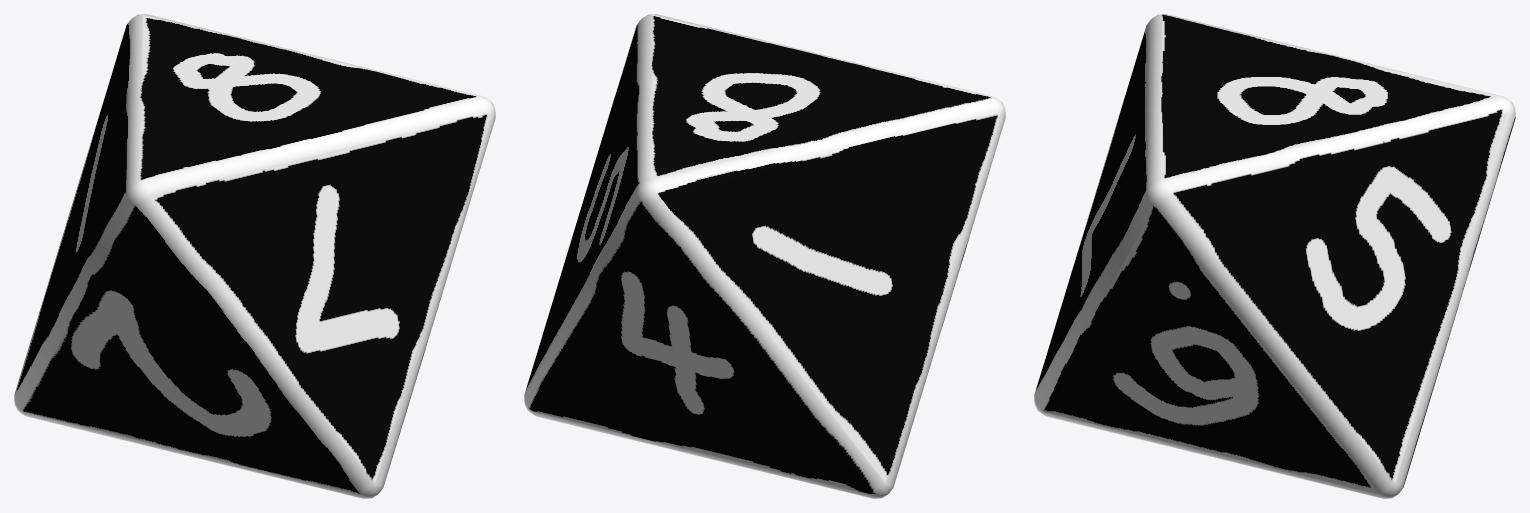
The picture shows the model from 3 angles, left to right: view 1: azimuth 30°, elevation 25°; view 2: azimuth 150°, elevation 25°; view 3: azimuth 270°, elevation 25°; orthographic projection.
Parts seen in each view (by area): view 1: d8-bev-rigid; view 2: d8-bev-rigid; view 3: d8-bev-rigid.
Part boxes in pixels (x1,y1,x2,y2): d8-bev-rigid: (14,14,495,498); d8-bev-rigid: (524,14,1005,498); d8-bev-rigid: (1034,14,1515,498).
Size of the model in its own units: 1.38 by 1.15 by 1.58.
1 material, 1 textured.
